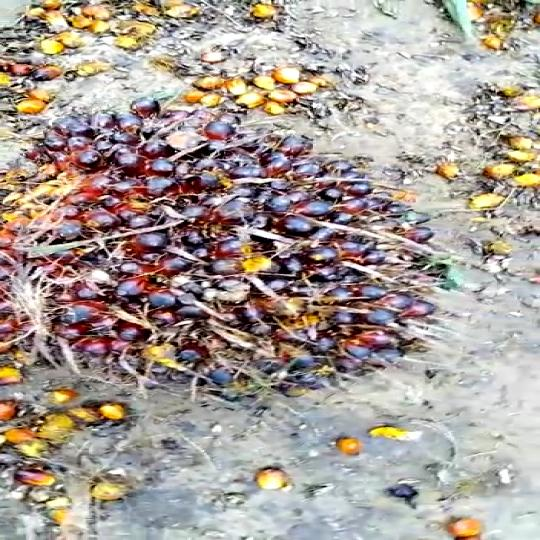kurang masak: (1, 102, 455, 415)
